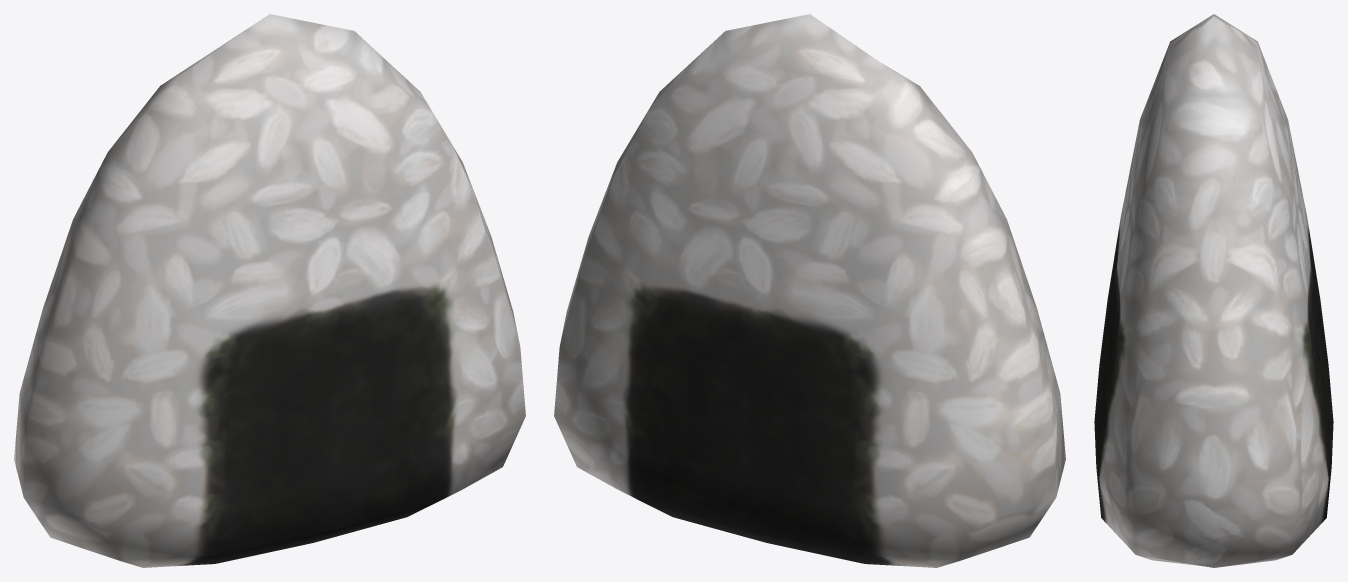
Rendered from ArrozConAlgas.fbx.
3 views of the same model, side by side, from view 1: azimuth 30°, elevation 25°; view 2: azimuth 150°, elevation 25°; view 3: azimuth 270°, elevation 25° (orthographic). The views are drawn at different scales.
Visible parts, largest first — view 1: Cube; view 2: Cube; view 3: Cube.
Part boxes in pixels (box(x1,y1,x2,y2)): Cube: box(14, 14, 525, 567); Cube: box(554, 14, 1065, 567); Cube: box(1094, 14, 1333, 567).
Size of the model in its own units: 16.82 by 16.52 by 7.41.
1 material, 1 textured.
